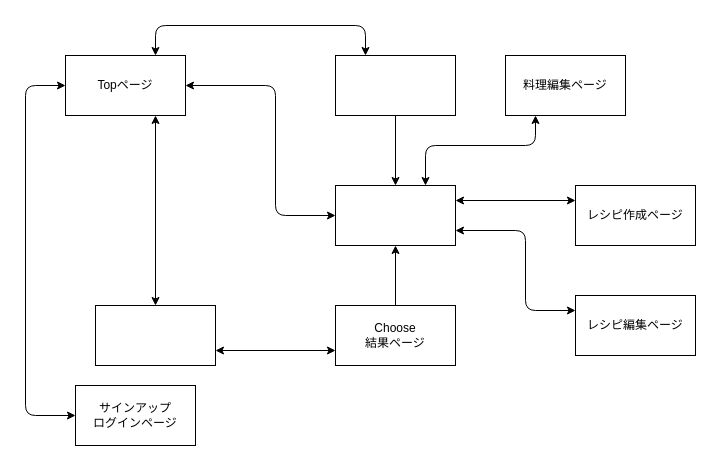
Image size: 713x463. Some labels were removed from this diagram. Here are the shapes that lost their labels. From the top down, the centre of each, then its label:
At (395,85): "料理登録ページ".
At (395,215): "料理詳細ページ".
At (155,335): "Choose 条件ページ".
